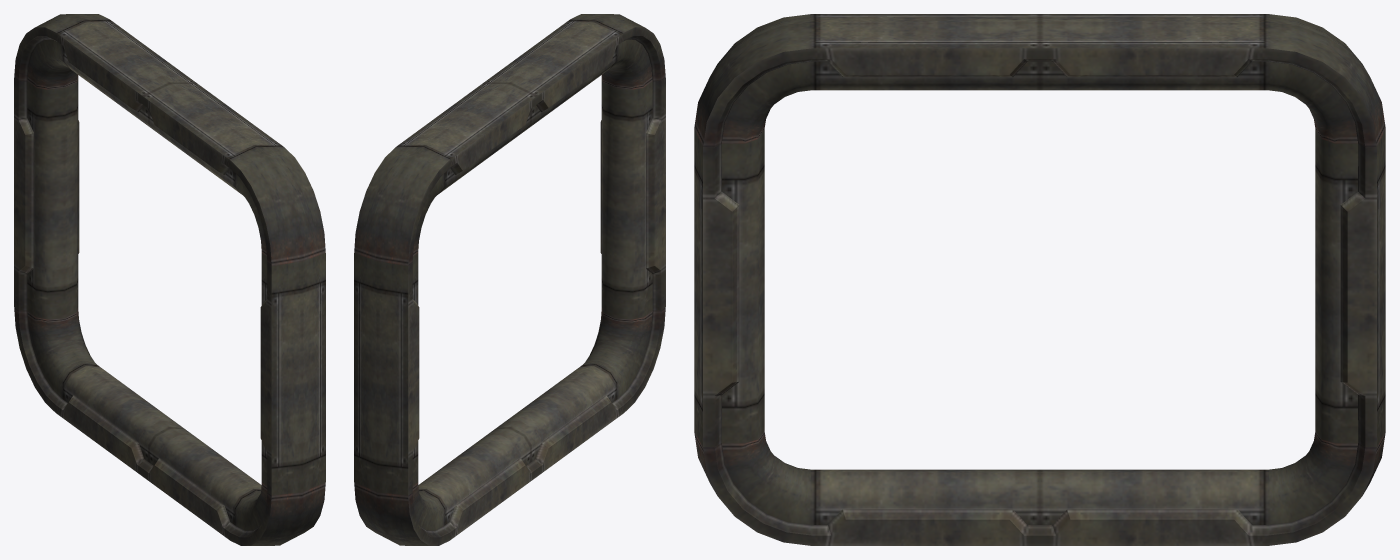
The model's file is pplant_windowframe_noglass.dae.
The picture shows the model from 3 angles, left to right: view 1: azimuth 30°, elevation 25°; view 2: azimuth 150°, elevation 25°; view 3: azimuth 270°, elevation 25°; orthographic projection. The views are drawn at different scales.
Parts seen in each view (by area): view 1: polySurface1; view 2: polySurface1; view 3: polySurface1.
Boxes of the visible parts, <box> form: polySurface1: <box>14,14,325,545</box>; polySurface1: <box>354,14,665,545</box>; polySurface1: <box>694,14,1385,545</box>.
Bounding box in the file's own units: 0.4087 × 2.84 × 3.46.
